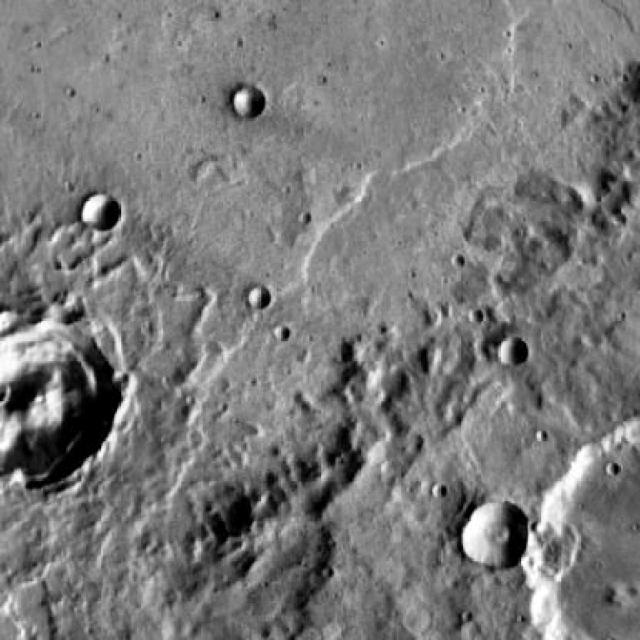crater: (511, 423, 640, 635), (0, 314, 109, 480), (462, 499, 530, 566), (82, 192, 121, 231), (233, 88, 264, 120), (404, 604, 433, 634), (498, 337, 527, 366), (248, 287, 272, 310)
